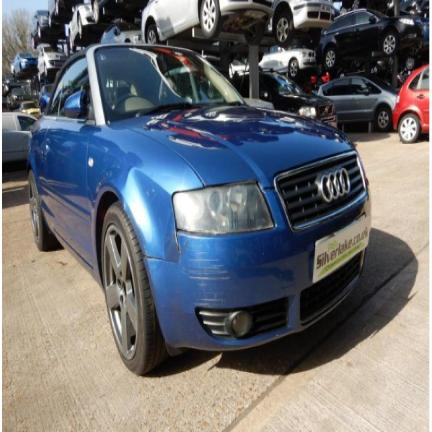dent: (119, 169, 186, 264)
scratch: (182, 241, 231, 305)
